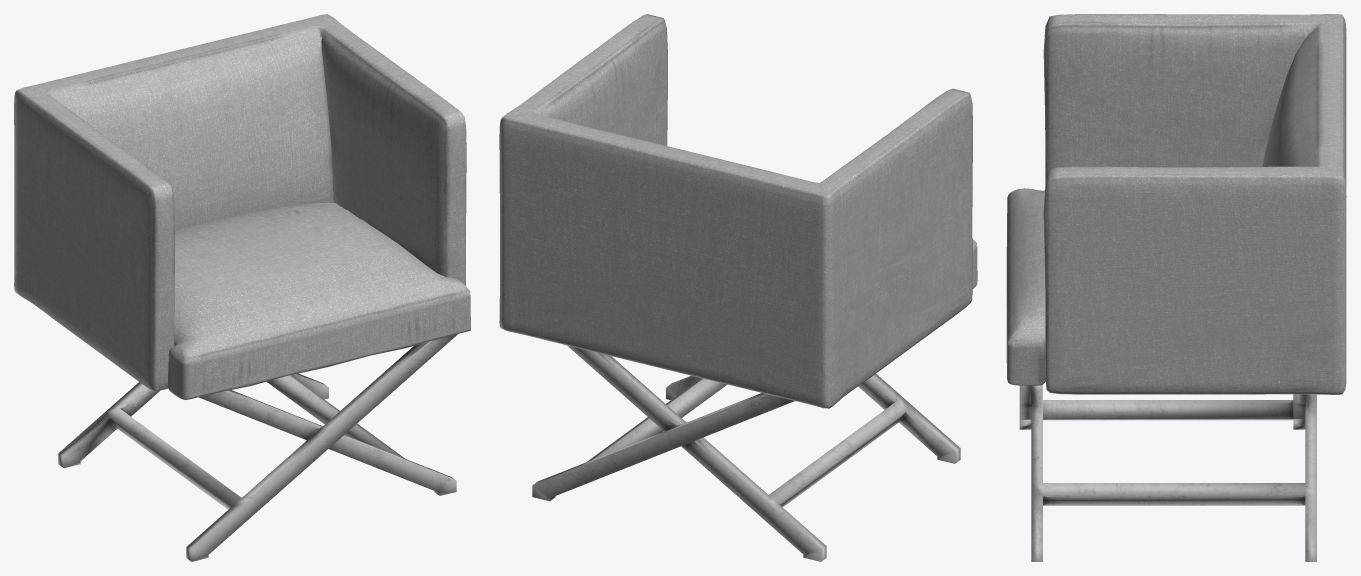
Rendered from sedia-6.glb.
3 renders of one model, left to right at view 1: azimuth 30°, elevation 25°; view 2: azimuth 150°, elevation 25°; view 3: azimuth 270°, elevation 25°, orthographic. The views are drawn at different scales.
Visible parts, largest first — view 1: defaultMaterial; view 2: defaultMaterial; view 3: defaultMaterial.
Boxes of the visible parts, <box> form: defaultMaterial: <box>14,14,470,561</box>; defaultMaterial: <box>499,14,977,561</box>; defaultMaterial: <box>1006,14,1346,561</box>.
Bounding box in the file's own units: 1.8 × 2 × 1.56.
1 material, 1 textured.
